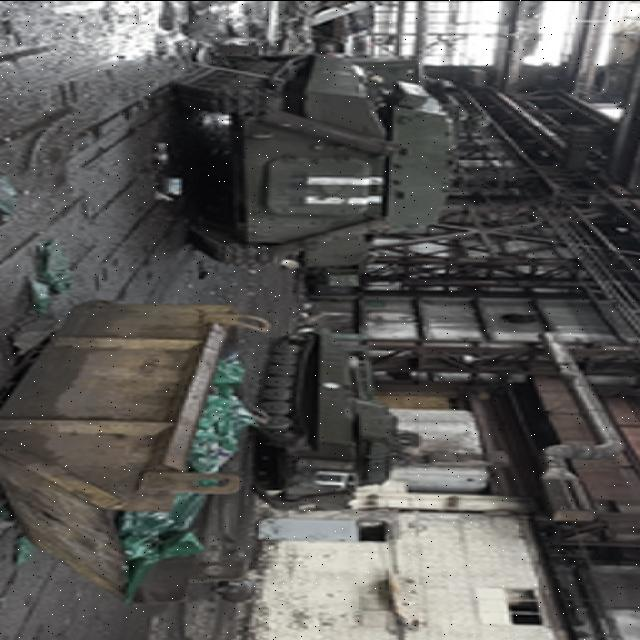ART: (180, 41, 460, 272), (244, 326, 416, 516)
